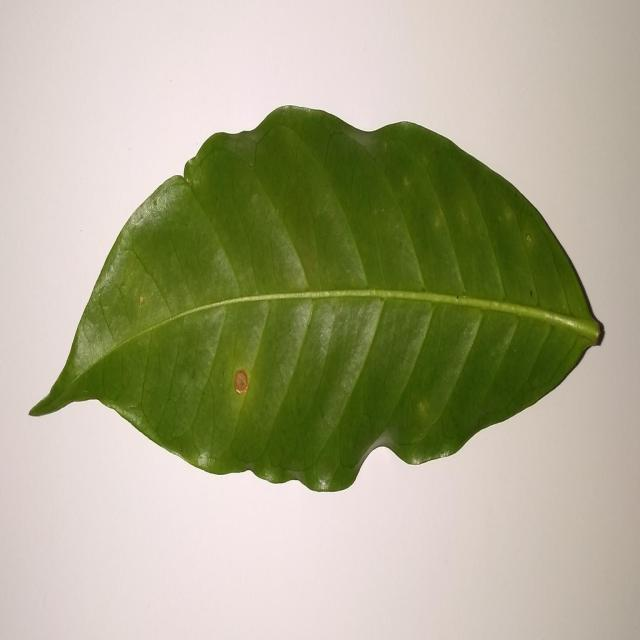Enfermedad-Mancha-de-hierro: (29, 106, 605, 496)
